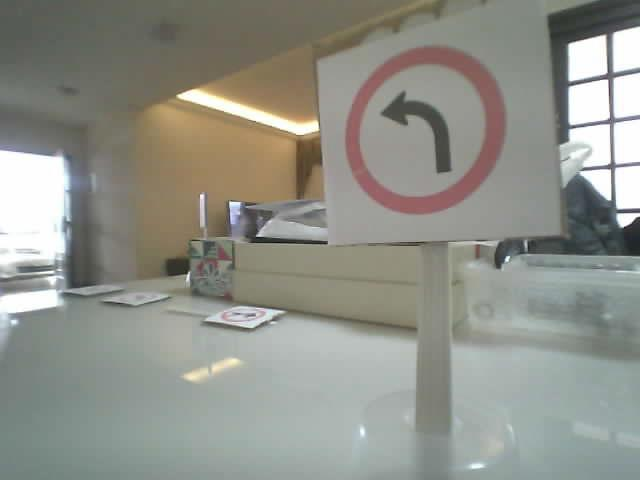R-25a_esquerda: (344, 45, 506, 214)
